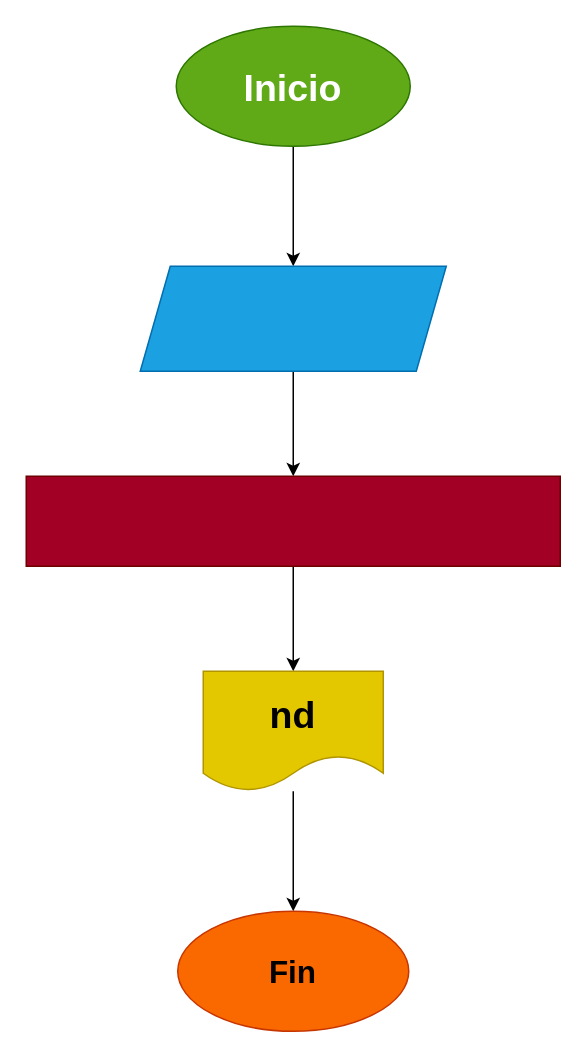
The diagram is 587 pixels wide and 1058 high, and some of its shapes have lost their labels. Here are the shapes that lost their labels. From the top down, the box of each, then its label:
(139, 265, 446, 371): nc, cp, na, au, bi
(25, 475, 560, 566): nd=0.3*nc + 0.3*np + 0.1*na + 0.1*au + .02*bi
